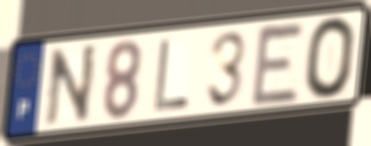3: (206, 30, 248, 108)
8: (103, 37, 145, 122)
E: (249, 21, 308, 109)
L: (151, 37, 192, 115)
N: (44, 41, 100, 129)
O: (303, 13, 358, 102)
